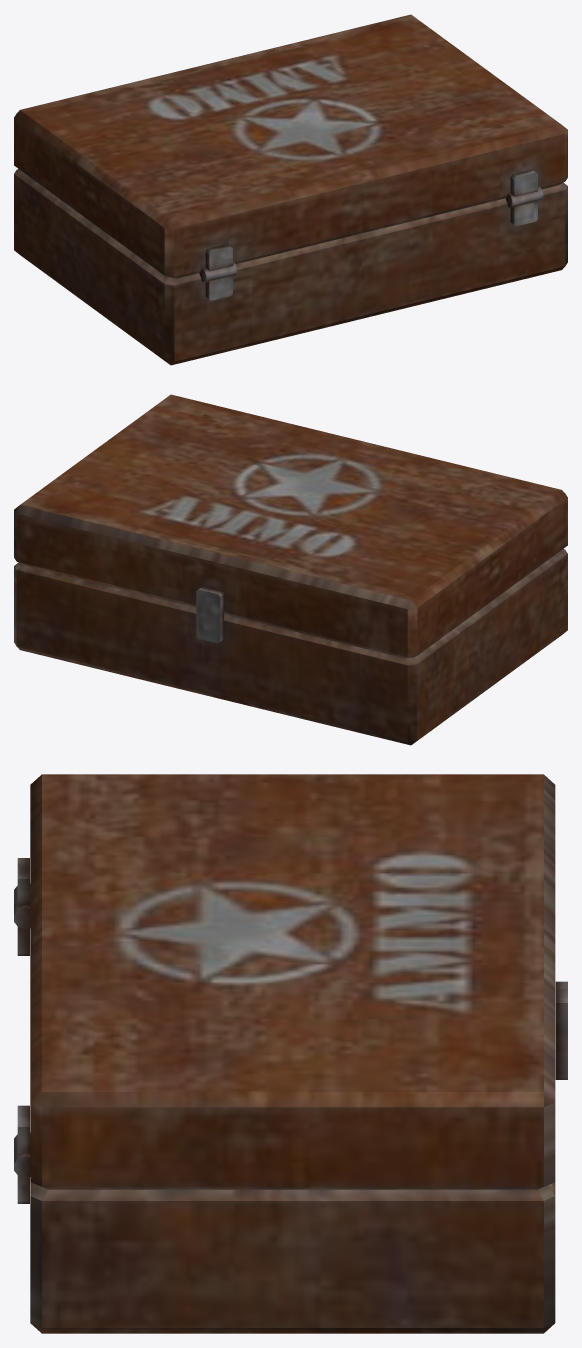
The picture shows the model from 3 angles, top to bottom: view 1: azimuth 30°, elevation 25°; view 2: azimuth 150°, elevation 25°; view 3: azimuth 270°, elevation 25°; orthographic projection. The views are drawn at different scales.
Parts seen in each view (by area): view 1: ammobox; view 2: ammobox; view 3: ammobox.
Boxes of the visible parts, x1,y1,x2,y2 form: ammobox: (14, 14, 567, 365); ammobox: (14, 394, 567, 745); ammobox: (14, 774, 567, 1333).
Bounding box in the file's own units: 0.8716 × 0.3 × 0.6233.
1 material, 1 textured.
